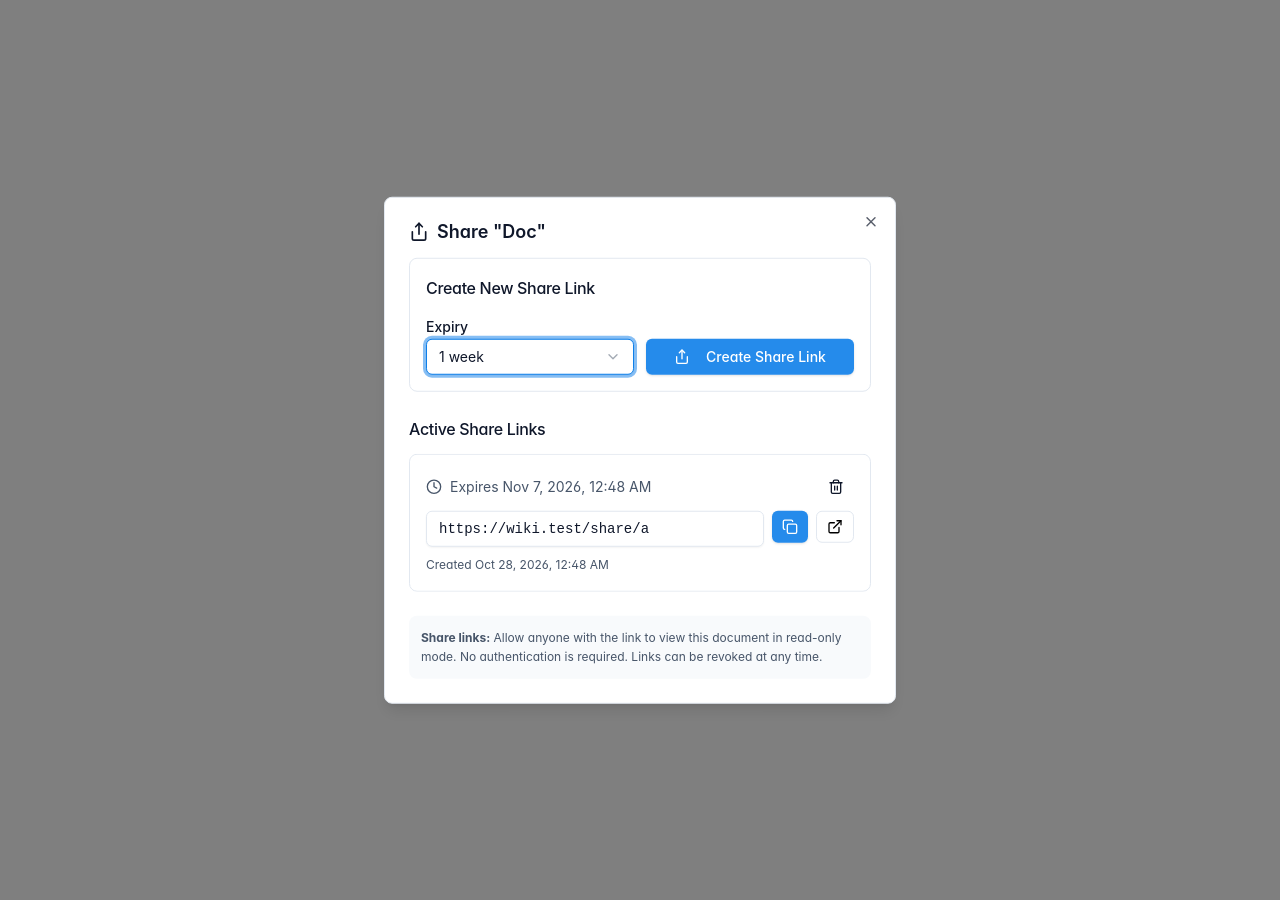
ShareDocumentModal › revokes a share
The width and height of the screenshot is (1280, 900).
Click the button with test id "revoke-share-btn".
click(836, 487)  # box left=818, top=471, right=854, bottom=503
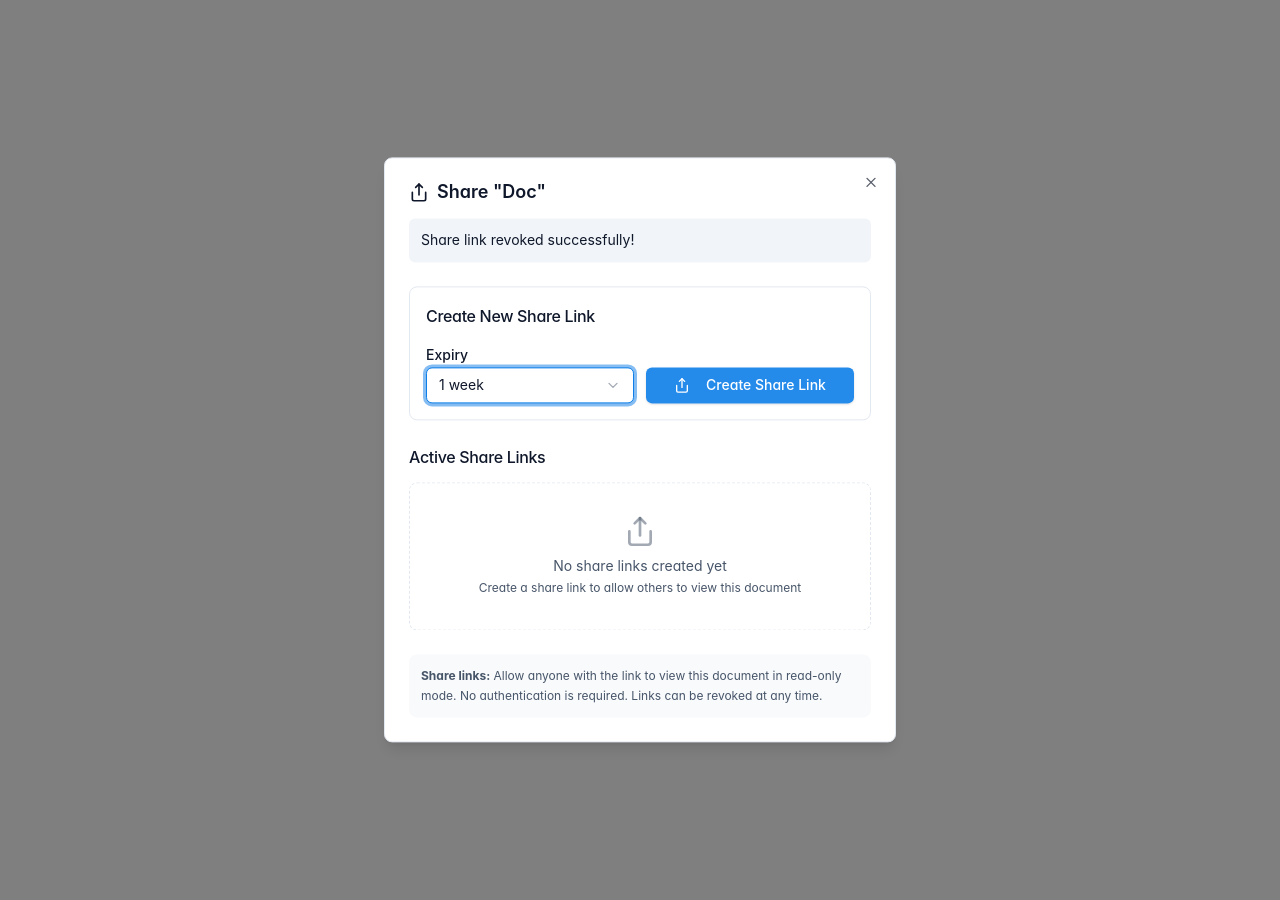
Check: the text "Share link revoked successfully!" is shown, box left=409, top=218, right=871, bottom=262
Check: the field with test id "share-url" is gone
